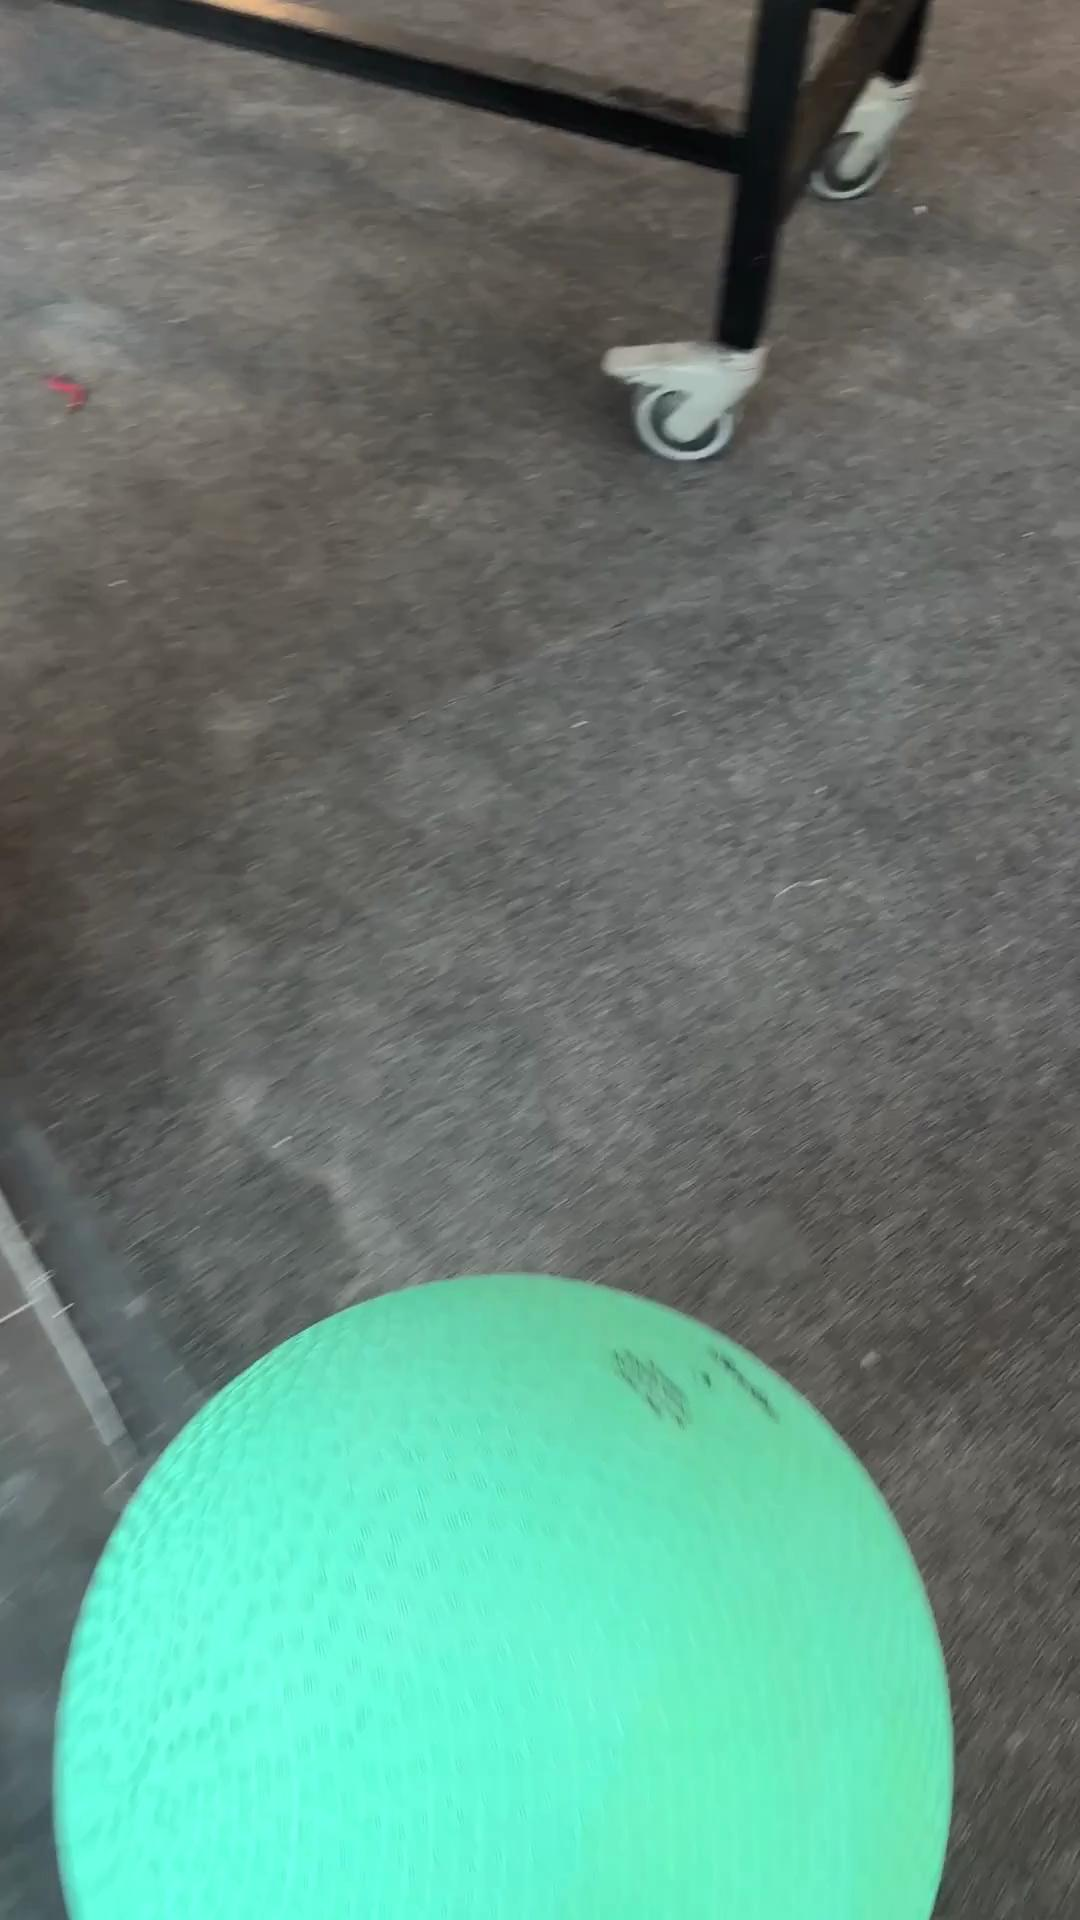ALGAE: (50, 1269, 957, 1916)
